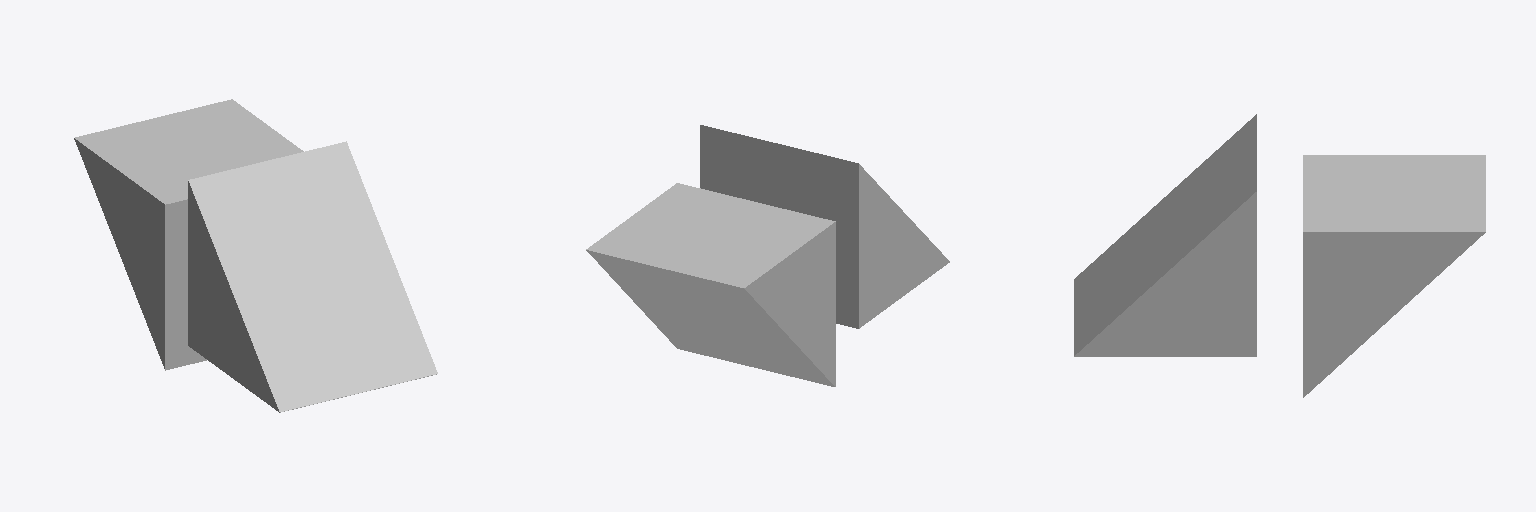
The model's file is 17grad-v2-3d.obj.
3 views of the same model, side by side, from view 1: azimuth 30°, elevation 25°; view 2: azimuth 150°, elevation 25°; view 3: azimuth 270°, elevation 25° (orthographic).
Parts seen in each view (by area): view 1: Cube, Cube.001; view 2: Cube.001, Cube; view 3: Cube, Cube.001.
Boxes of the visible parts, box(x1,y1,x2,y2) form: Cube: box(188, 141, 437, 412); Cube.001: box(74, 99, 303, 370); Cube.001: box(586, 183, 835, 386); Cube: box(700, 125, 949, 328); Cube: box(1074, 114, 1256, 356); Cube.001: box(1303, 155, 1485, 397).
Bounding box in the file's own units: 2 × 2.5 × 4.5.